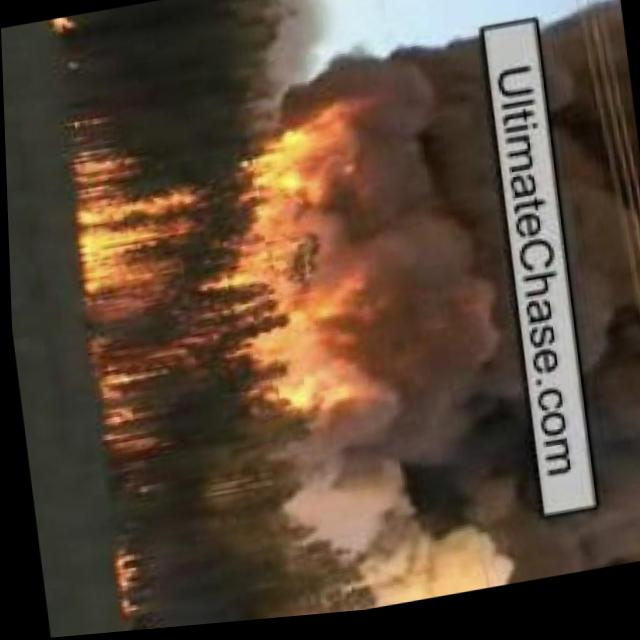Fire: (66, 100, 412, 466), (113, 555, 136, 618), (45, 15, 76, 38)
